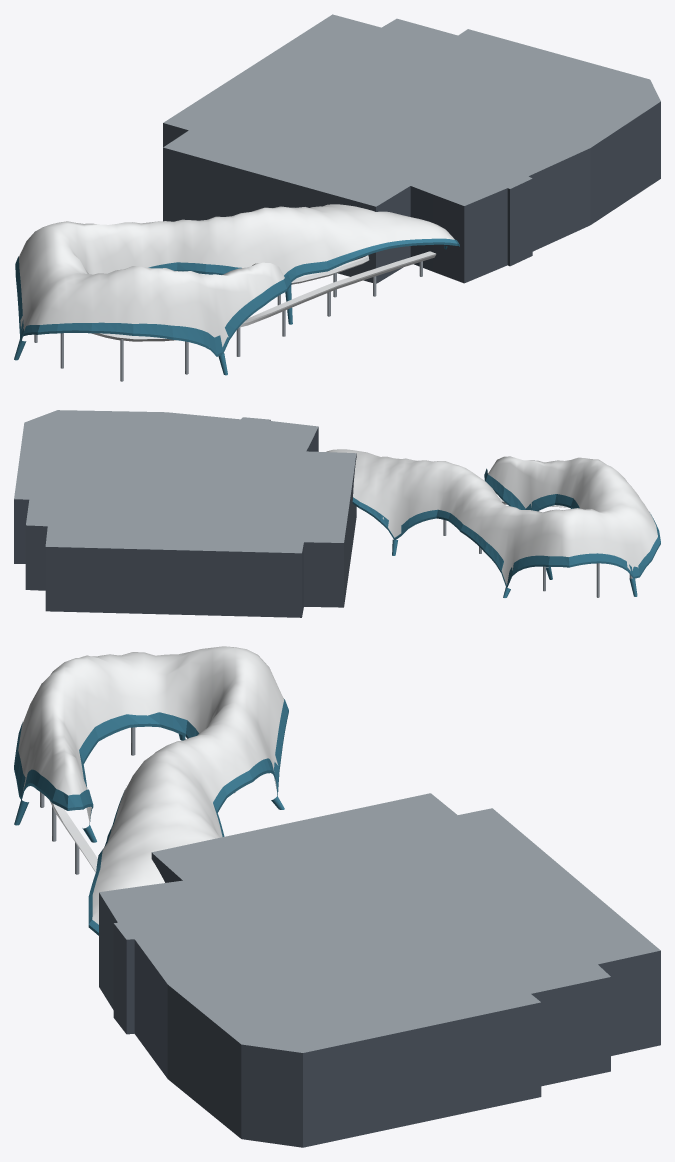
The picture shows the model from 3 angles, top to bottom: view 1: azimuth 30°, elevation 25°; view 2: azimuth 150°, elevation 25°; view 3: azimuth 270°, elevation 25°; orthographic projection. The views are drawn at different scales.
Parts seen in each view (by area): view 1: tron-lightcycle-run-walt-disney-world; view 2: tron-lightcycle-run-walt-disney-world; view 3: tron-lightcycle-run-walt-disney-world.
Part boxes in pixels (x1,y1,x2,y2): tron-lightcycle-run-walt-disney-world: (14, 14, 660, 381); tron-lightcycle-run-walt-disney-world: (14, 410, 660, 617); tron-lightcycle-run-walt-disney-world: (14, 646, 660, 1147).
Size of the model in its own units: 205 by 29.85 by 136.
